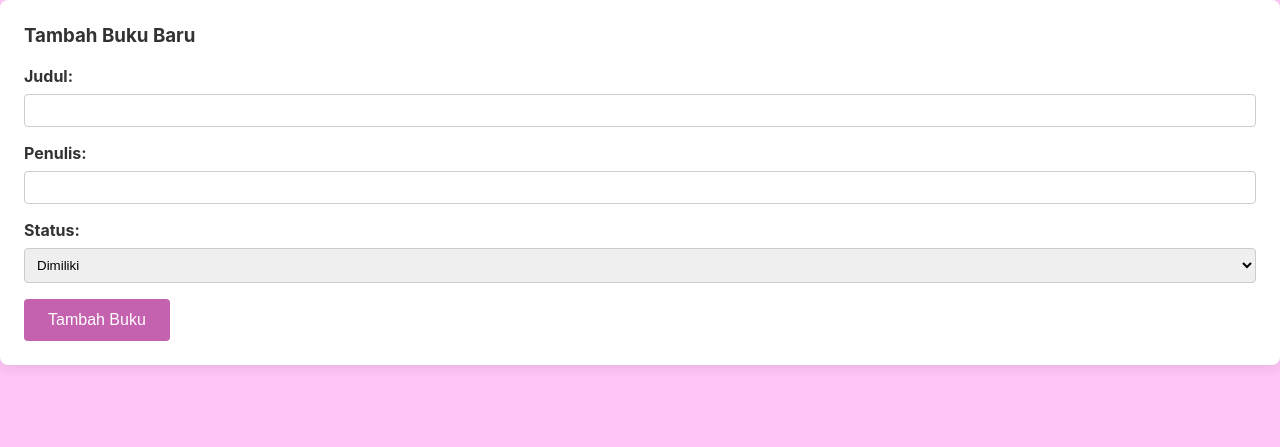
Test: BookForm Component › shows error message on empty submission
Click the button "Tambah Buku" at (97, 320), box [24,299,170,341]
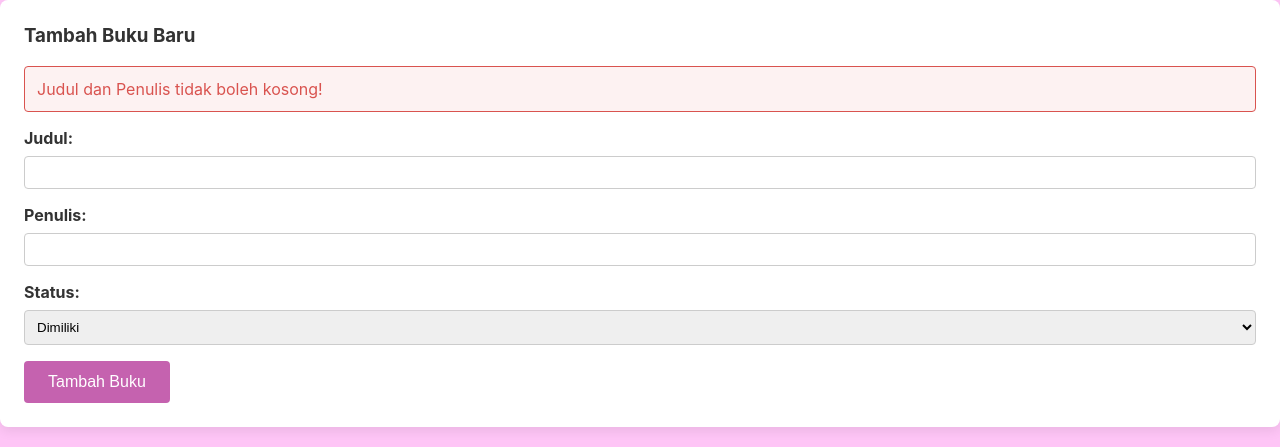
Now the text "Judul dan Penulis tidak boleh kosong!" is shown, box [24,66,1256,112]
